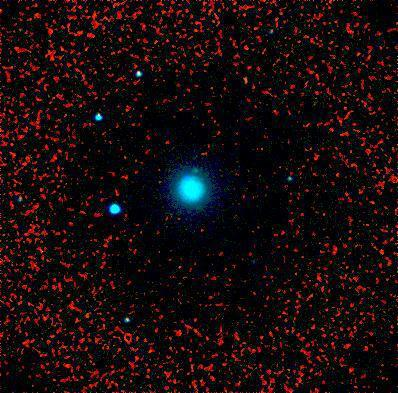star: (168, 161, 198, 191)
